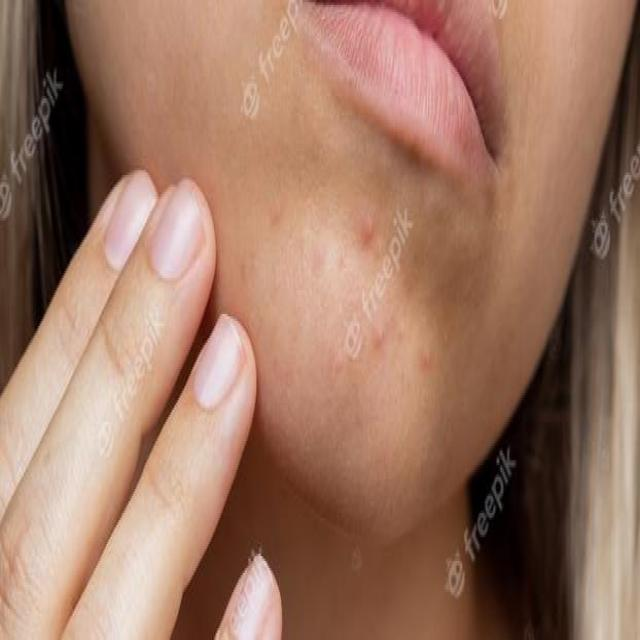blackheads: (363, 202, 376, 244), (422, 331, 434, 369)
